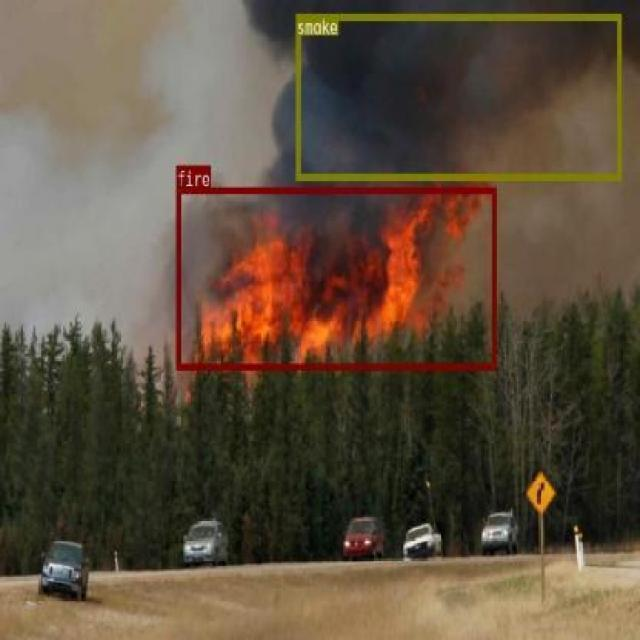Fire: (166, 206, 488, 358)
Smoke: (137, 0, 630, 327)
